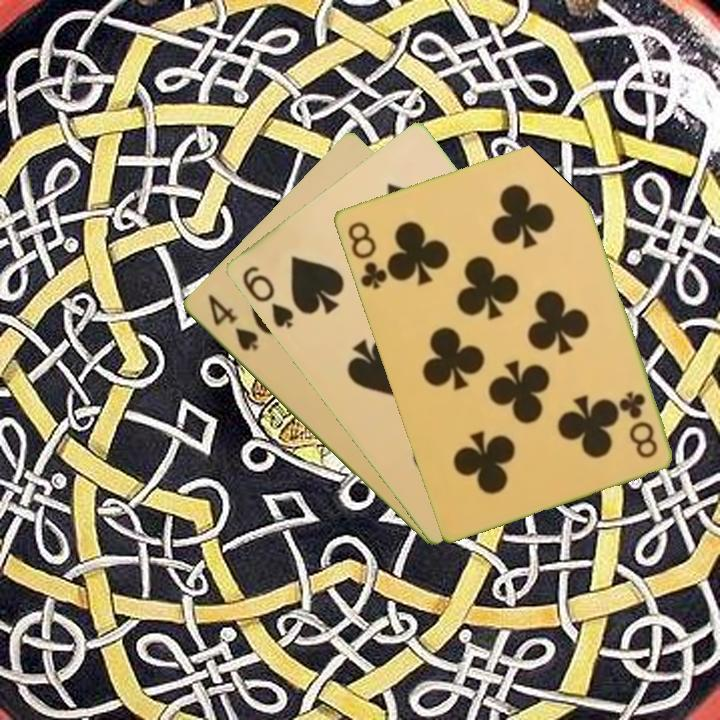4s: (203, 290, 261, 354)
6s: (238, 262, 296, 331)
8c: (343, 217, 390, 293), (615, 387, 660, 461)
